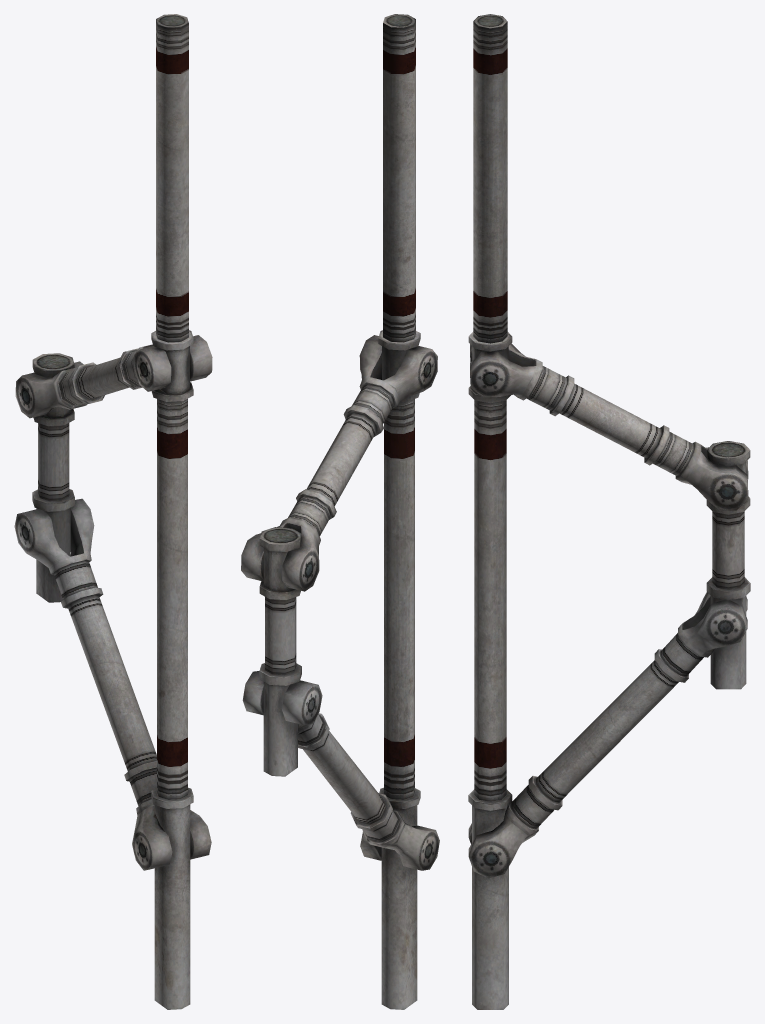
The model's file is scaffold_bevelled_wall.dae.
3 views of the same model, side by side, from view 1: azimuth 30°, elevation 25°; view 2: azimuth 150°, elevation 25°; view 3: azimuth 270°, elevation 25° (orthographic).
Visible parts, largest first — view 1: polySurface540; view 2: polySurface540; view 3: polySurface540.
Boxes of the visible parts, <box> form: polySurface540: <box>14,14,212,1009</box>; polySurface540: <box>241,14,439,1009</box>; polySurface540: <box>468,14,750,1009</box>.
Size of the model in its own units: 0.2299 by 3.63 by 0.9444.
